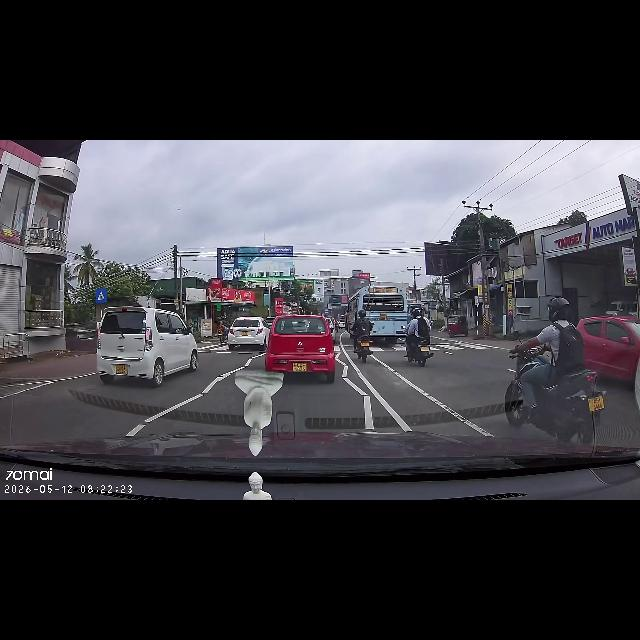bus: (374, 286, 396, 340)
car: (101, 310, 187, 380), (274, 317, 332, 377), (231, 322, 263, 348)
crosswalk: (434, 340, 482, 358)
double_solid_line: (358, 372, 454, 438)
helmet: (549, 299, 569, 321), (416, 307, 422, 315), (360, 310, 364, 318)
motorcycle: (508, 372, 588, 432), (402, 340, 428, 364), (354, 337, 374, 359)
number_plate: (115, 360, 129, 376), (292, 358, 306, 374)
person: (535, 302, 575, 378), (413, 309, 427, 341), (356, 317, 372, 341)
solid_line: (204, 359, 246, 417)
